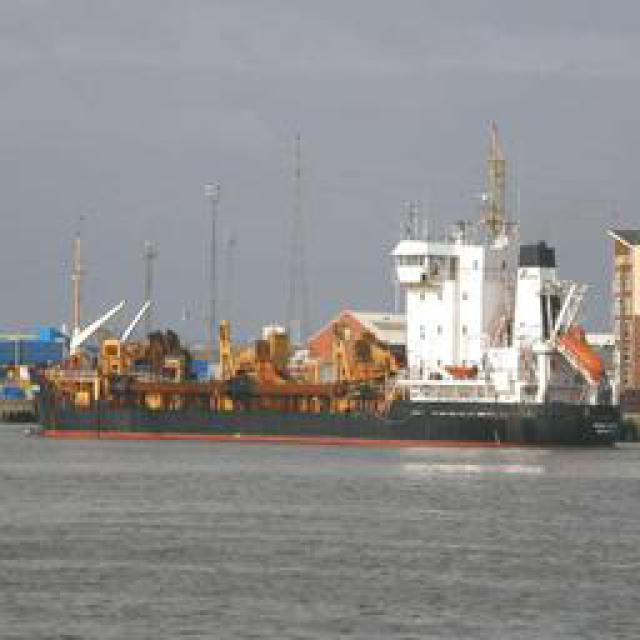Ship: (20, 119, 622, 457)
